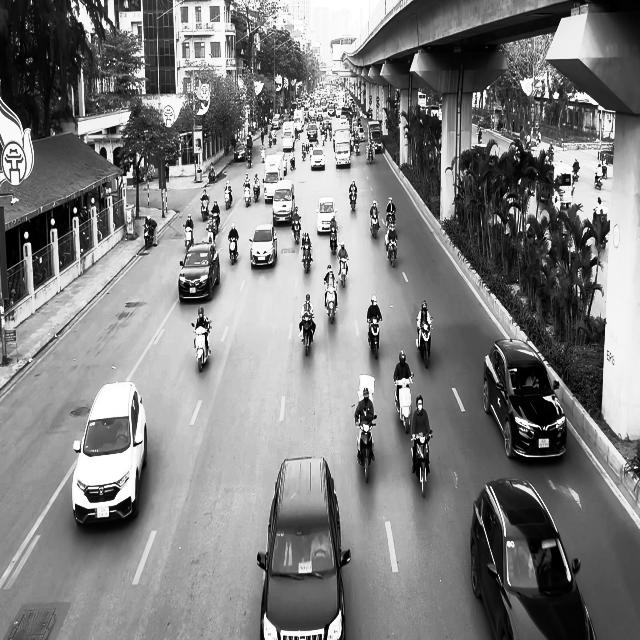car: (470, 477, 597, 639), (256, 456, 351, 639), (72, 381, 148, 526), (482, 338, 567, 460), (178, 242, 220, 302), (249, 223, 277, 268), (272, 179, 295, 225), (316, 196, 337, 234)
motorbike: (355, 415, 377, 483), (411, 431, 432, 497), (394, 373, 413, 433), (191, 321, 211, 372), (416, 314, 432, 368), (366, 316, 382, 359), (300, 314, 315, 356), (324, 281, 337, 323), (143, 216, 157, 249), (385, 234, 398, 268), (301, 242, 313, 274), (338, 253, 348, 287), (183, 224, 194, 251), (228, 237, 238, 264), (329, 226, 338, 253), (370, 212, 379, 238), (292, 219, 301, 244), (200, 197, 209, 221), (243, 182, 251, 207), (224, 187, 232, 209), (348, 190, 356, 211), (252, 183, 260, 202), (594, 170, 602, 189)
